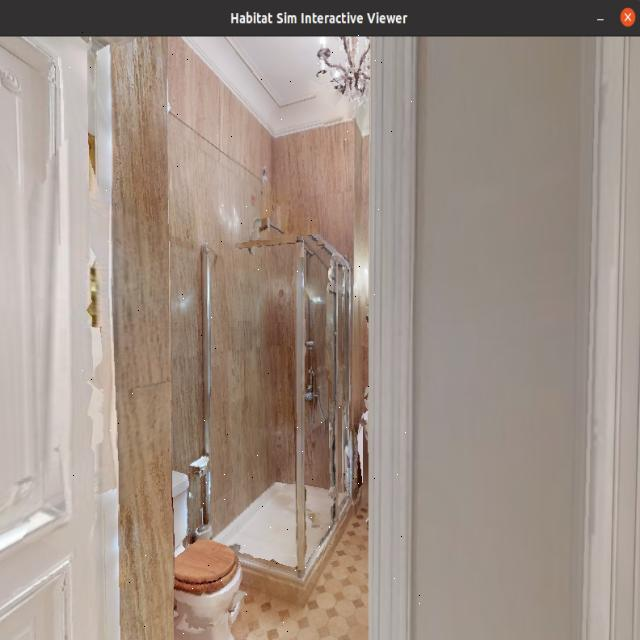door-frame: (68, 30, 430, 640)
shower: (201, 218, 364, 620)
toilet: (157, 441, 268, 640)
